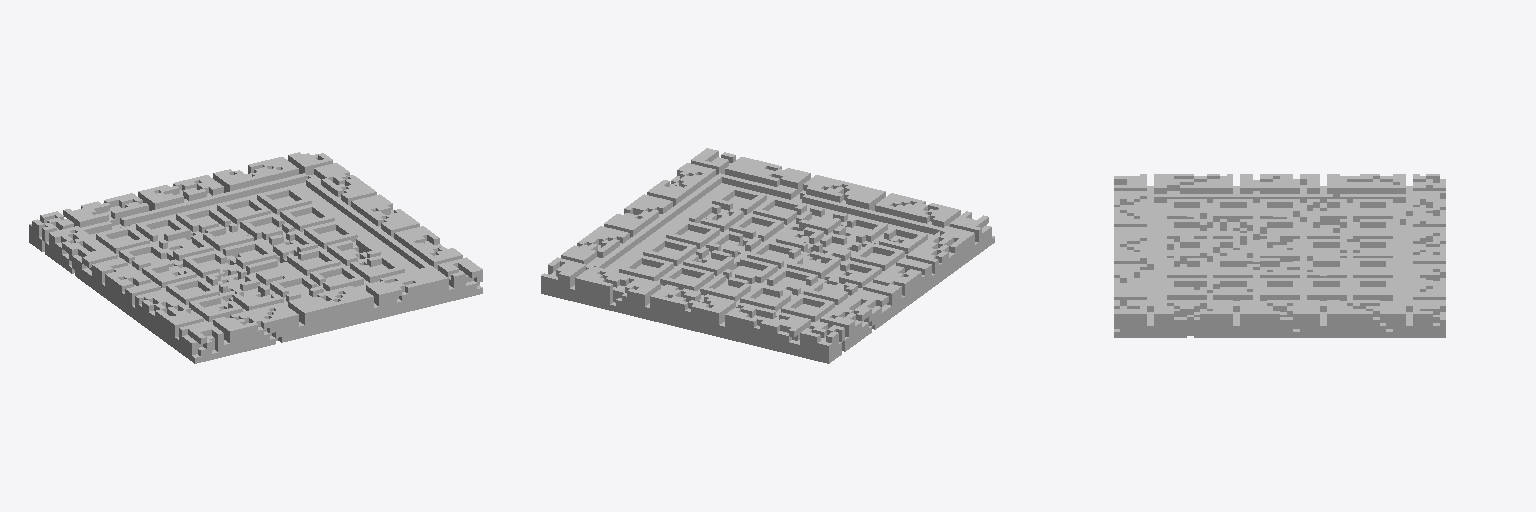
Rendered from Spike Trap.obj.
3 views of the same model, side by side, from view 1: azimuth 30°, elevation 25°; view 2: azimuth 150°, elevation 25°; view 3: azimuth 270°, elevation 25° (orthographic).
Parts seen in each view (by area): view 1: object 1; view 2: object 1; view 3: object 1.
Boxes of the visible parts, <box> form: object 1: <box>29,152,482,363</box>; object 1: <box>541,148,994,363</box>; object 1: <box>1114,174,1445,337</box>.
Bounding box in the file's own units: 5 × 0.4 × 5.